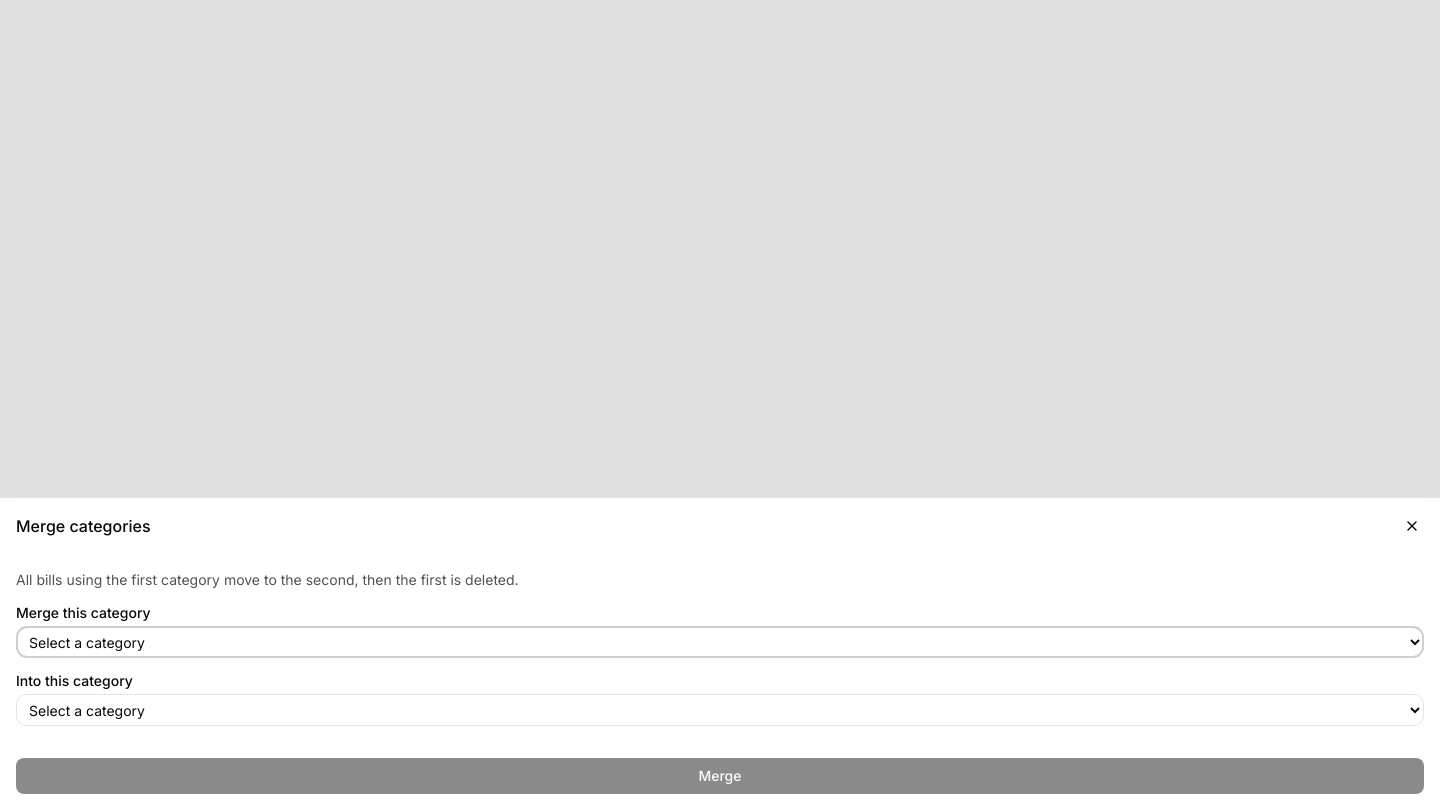
Test: MergeCategoriesDialog › disables confirm until both source and target are chosen
Expected: the button "Merge" is disabled, [16,758,1424,794]
Select "Housing" in the dropdown labelled "Merge this category" at (720,642), box [16,626,1424,658]
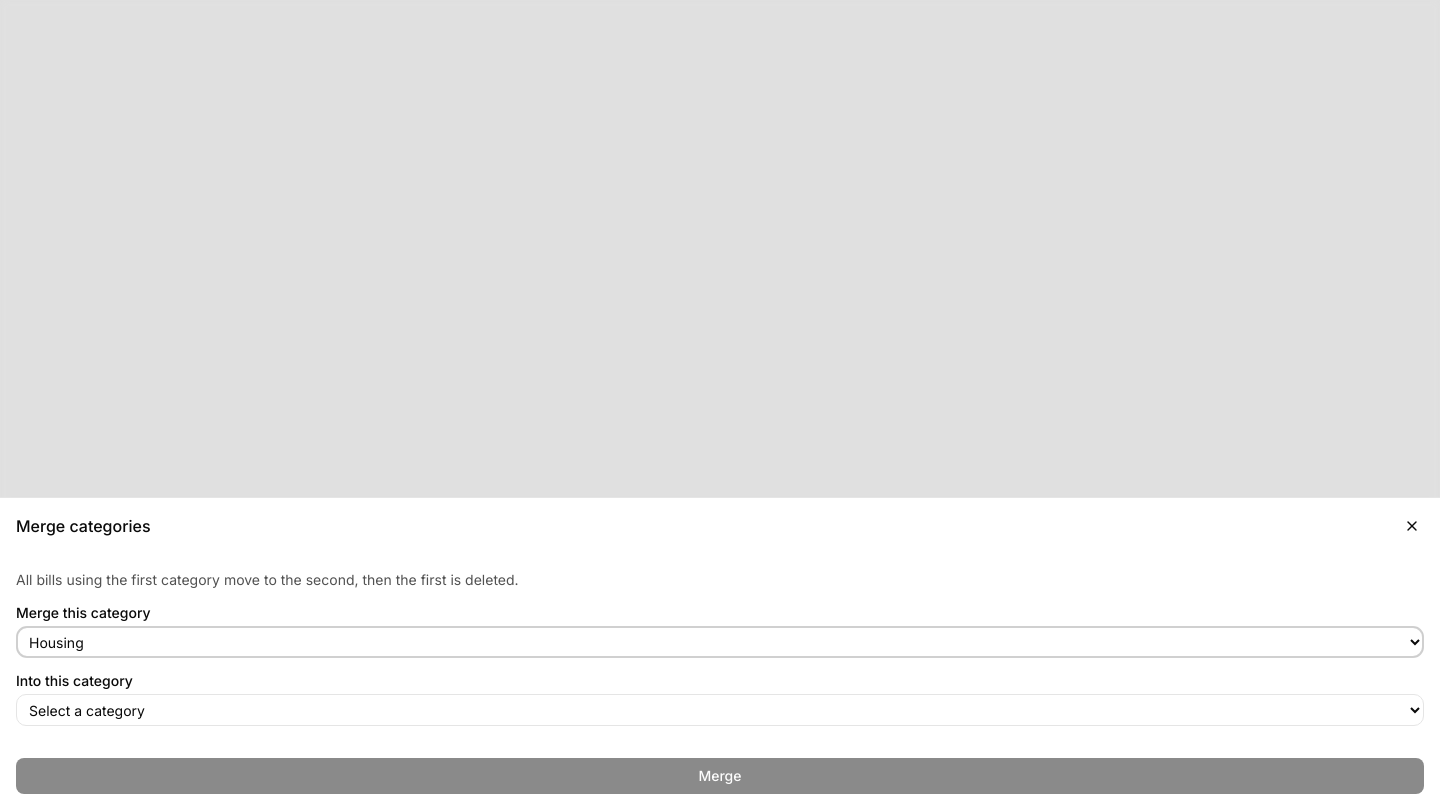
Expected: the button "Merge" is disabled, [16,758,1424,794]
Select "Rent" in the dropdown labelled "Into this category" at (720,710), box [16,694,1424,726]
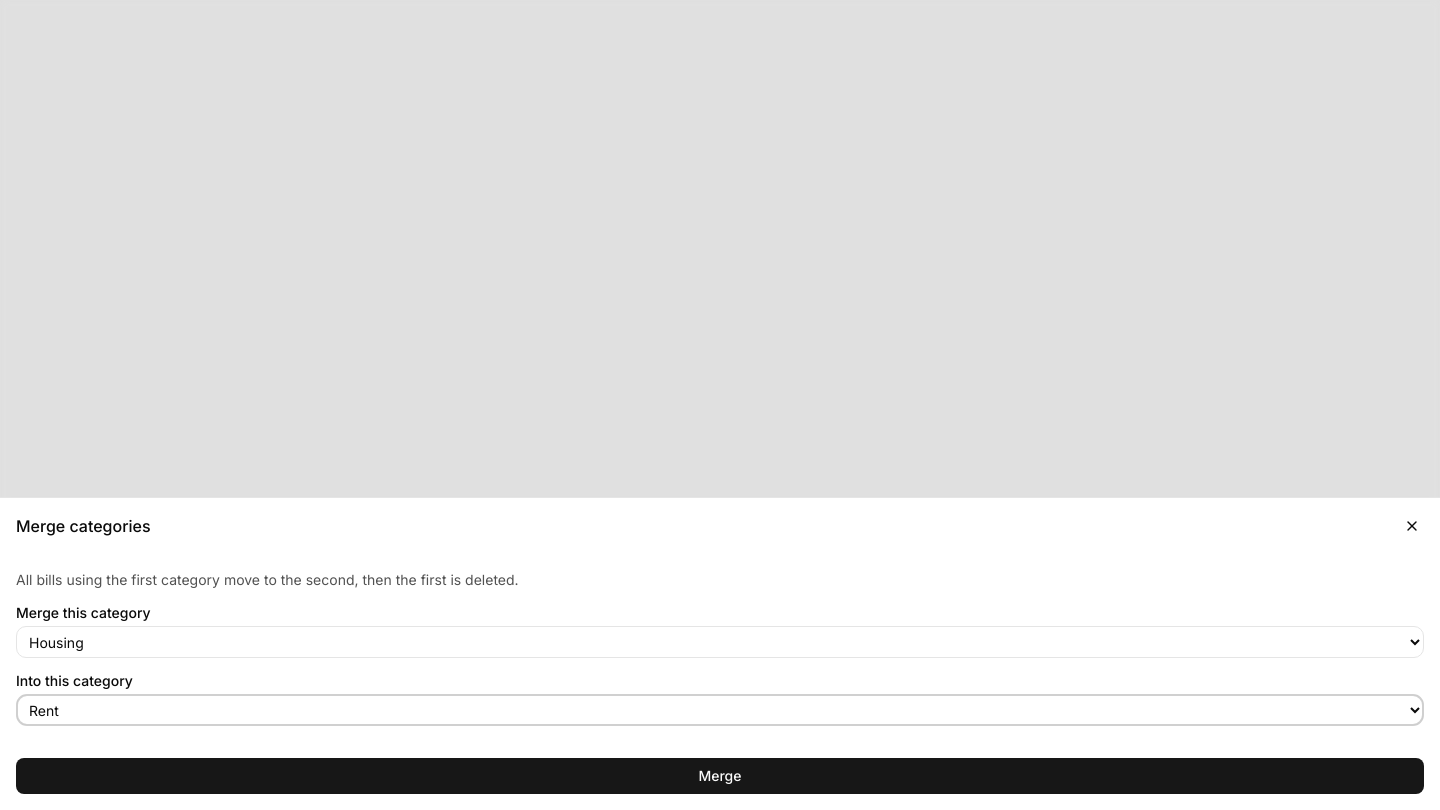
Expected: the button "Merge" is enabled, [16,758,1424,794]
